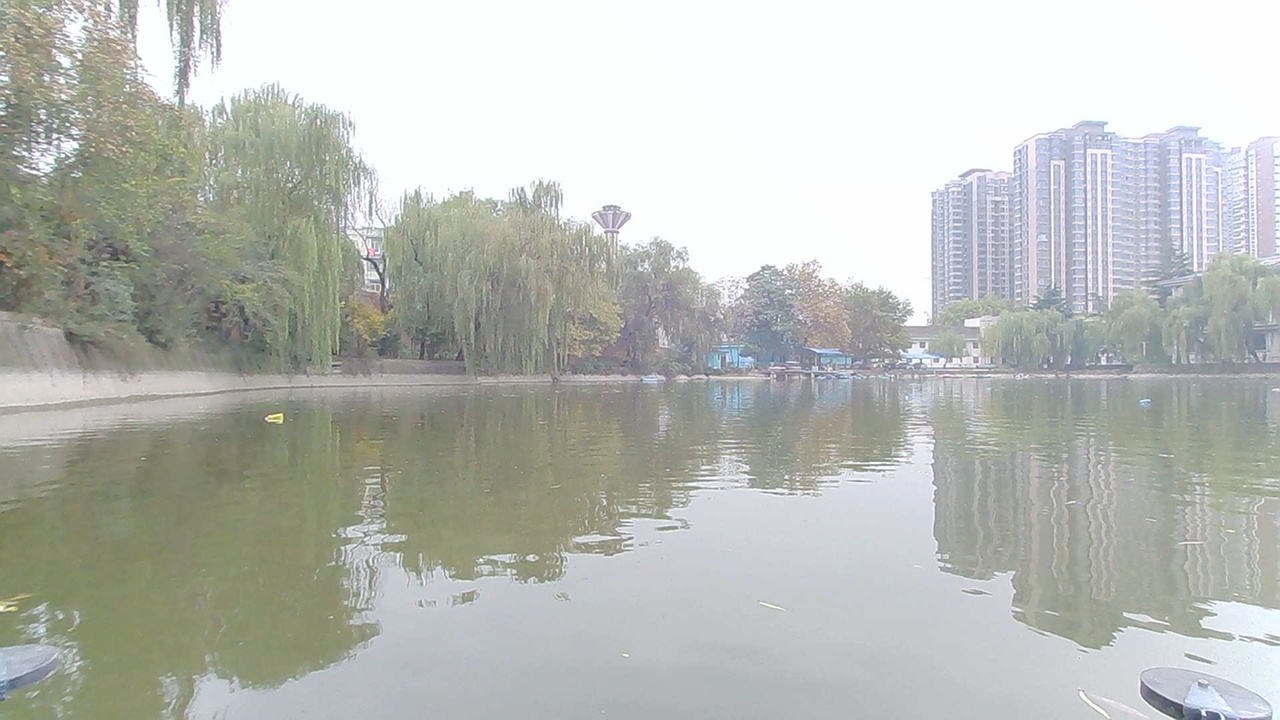bottle: (261, 406, 295, 429), (1133, 390, 1164, 413), (707, 390, 736, 405)
